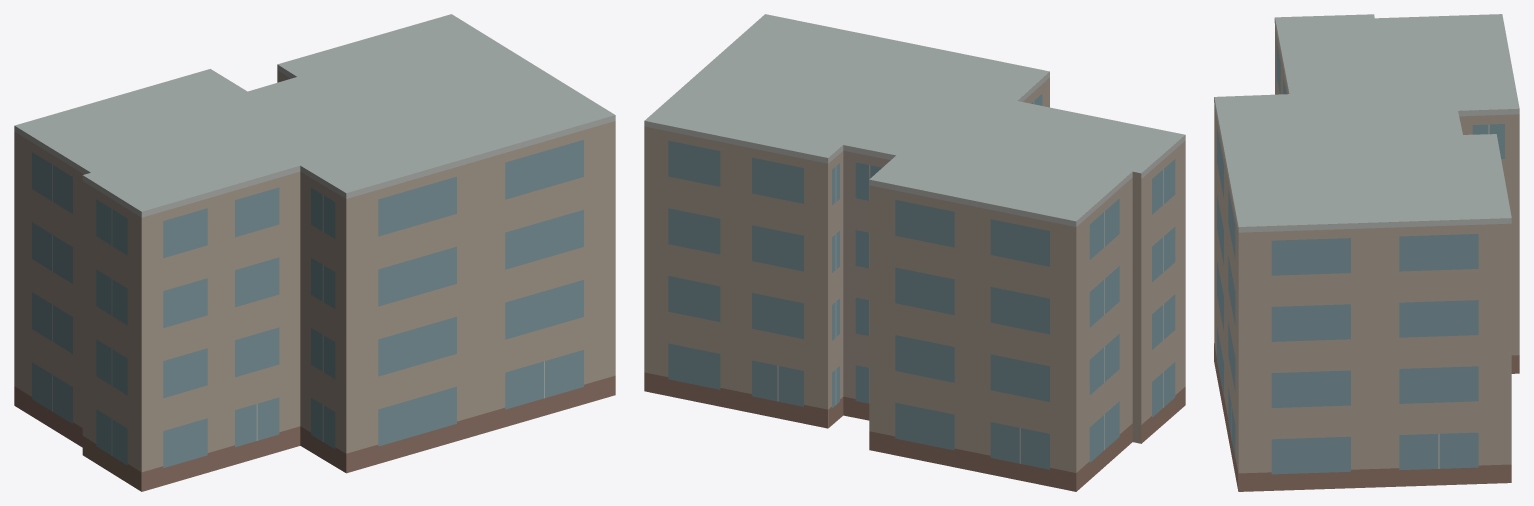
File: survey-upis-32973595.glb
3 views of the same model, side by side, from view 1: azimuth 30°, elevation 25°; view 2: azimuth 150°, elevation 25°; view 3: azimuth 270°, elevation 25° (orthographic). The views are drawn at different scales.
Visible parts, largest first — view 1: survey-upis-32973595.tmp; view 2: survey-upis-32973595.tmp; view 3: survey-upis-32973595.tmp.
Part boxes in pixels (x1=…): survey-upis-32973595.tmp: x1=14, y1=14, x2=615, y2=491; survey-upis-32973595.tmp: x1=644, y1=14, x2=1185, y2=491; survey-upis-32973595.tmp: x1=1214, y1=14, x2=1519, y2=491.
Bounding box in the file's own units: 20.02 × 11.6 × 12.14.
